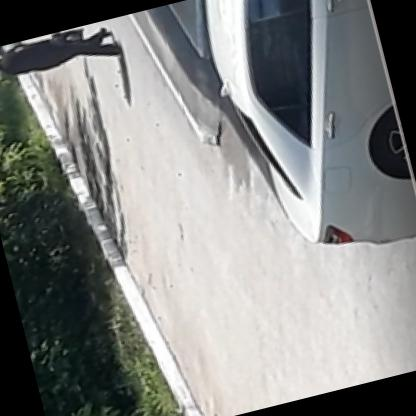Human Body: (0, 18, 133, 110)
